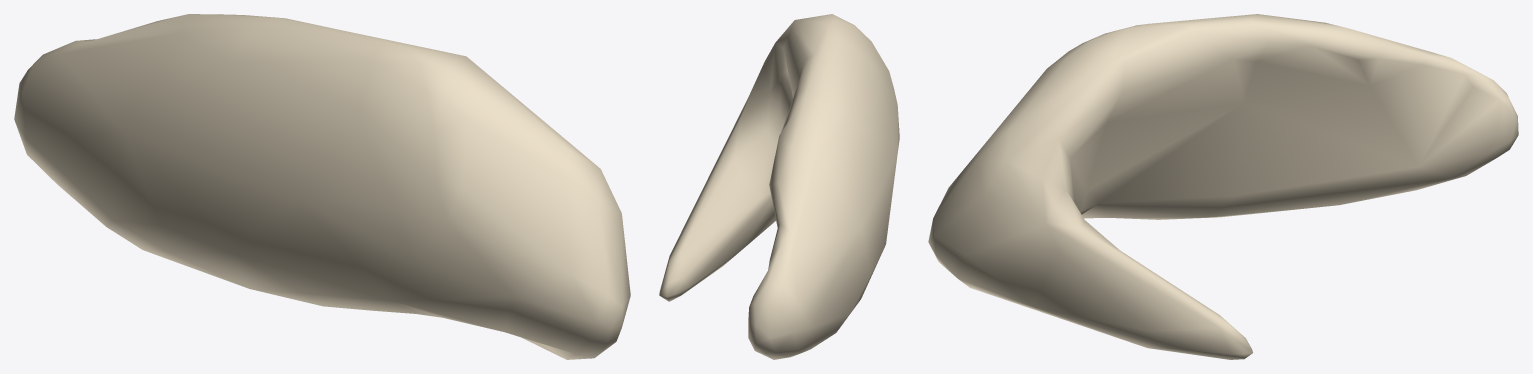
The model's file is major-alar-cartilage-r.glb.
3 views of the same model, side by side, from view 1: azimuth 30°, elevation 25°; view 2: azimuth 150°, elevation 25°; view 3: azimuth 270°, elevation 25° (orthographic). The views are drawn at different scales.
Parts seen in each view (by area): view 1: Major alar cartilage.r; view 2: Major alar cartilage.r; view 3: Major alar cartilage.r.
Part boxes in pixels (x1,y1,x2,y2): Major alar cartilage.r: (14,14,630,359); Major alar cartilage.r: (659,14,899,359); Major alar cartilage.r: (928,14,1518,359).
Bounding box in the file's own units: 0.0148 × 0.0142 × 0.0274.
